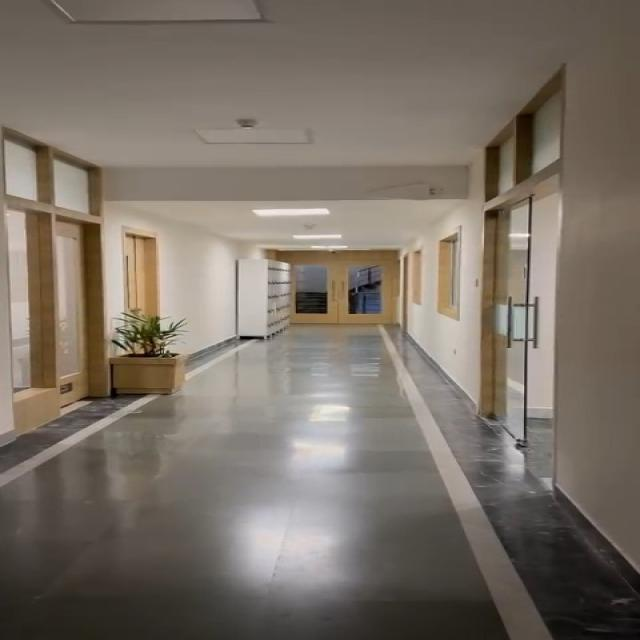door: (476, 132, 580, 464), (0, 132, 109, 421), (281, 240, 400, 336), (115, 236, 168, 328)
floor: (9, 421, 573, 640), (219, 343, 441, 477)
furniture: (93, 303, 198, 417)
wall: (563, 47, 640, 617), (400, 232, 475, 342), (174, 232, 236, 324)
